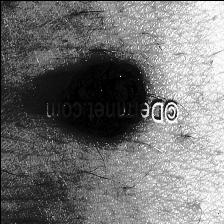Potentially Malignant Skin Tumors: (56, 38, 146, 144)
